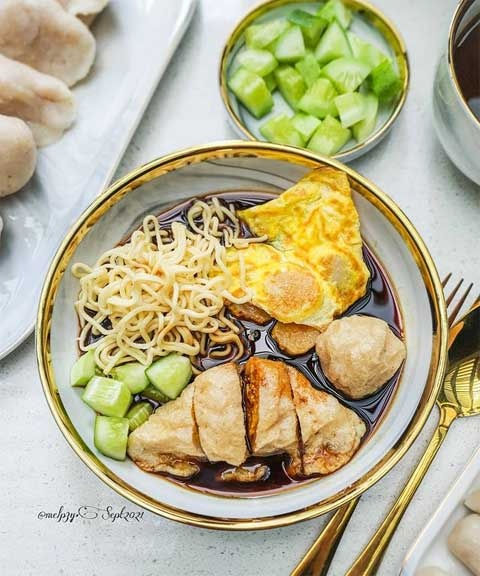pempek: (58, 162, 403, 496)
